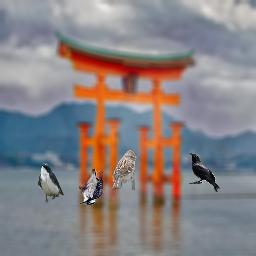Crow: (189, 152, 220, 192)
Sparrow: (112, 150, 137, 190)
Swallow: (38, 163, 64, 203)
Woodpecker: (79, 169, 103, 205)
